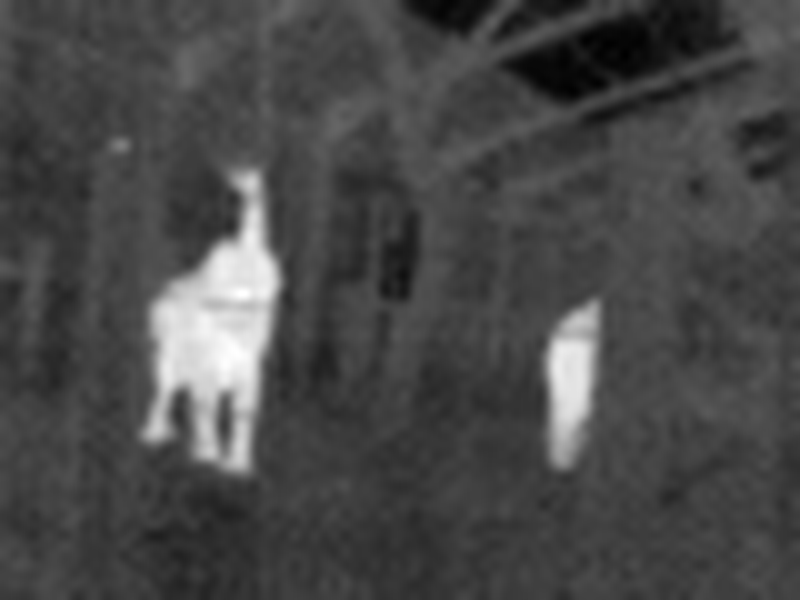elephant: (144, 158, 282, 477), (537, 314, 604, 469)
